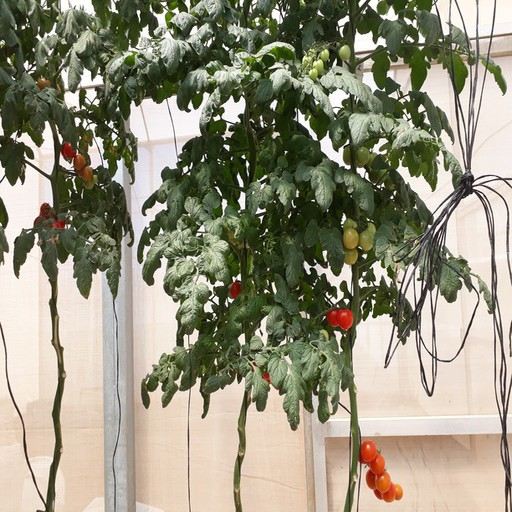green tomato bunch: (298, 37, 352, 85), (340, 217, 377, 265)
red tomato bunch: (355, 437, 403, 501), (33, 202, 70, 244), (61, 142, 96, 183), (225, 281, 248, 298)
